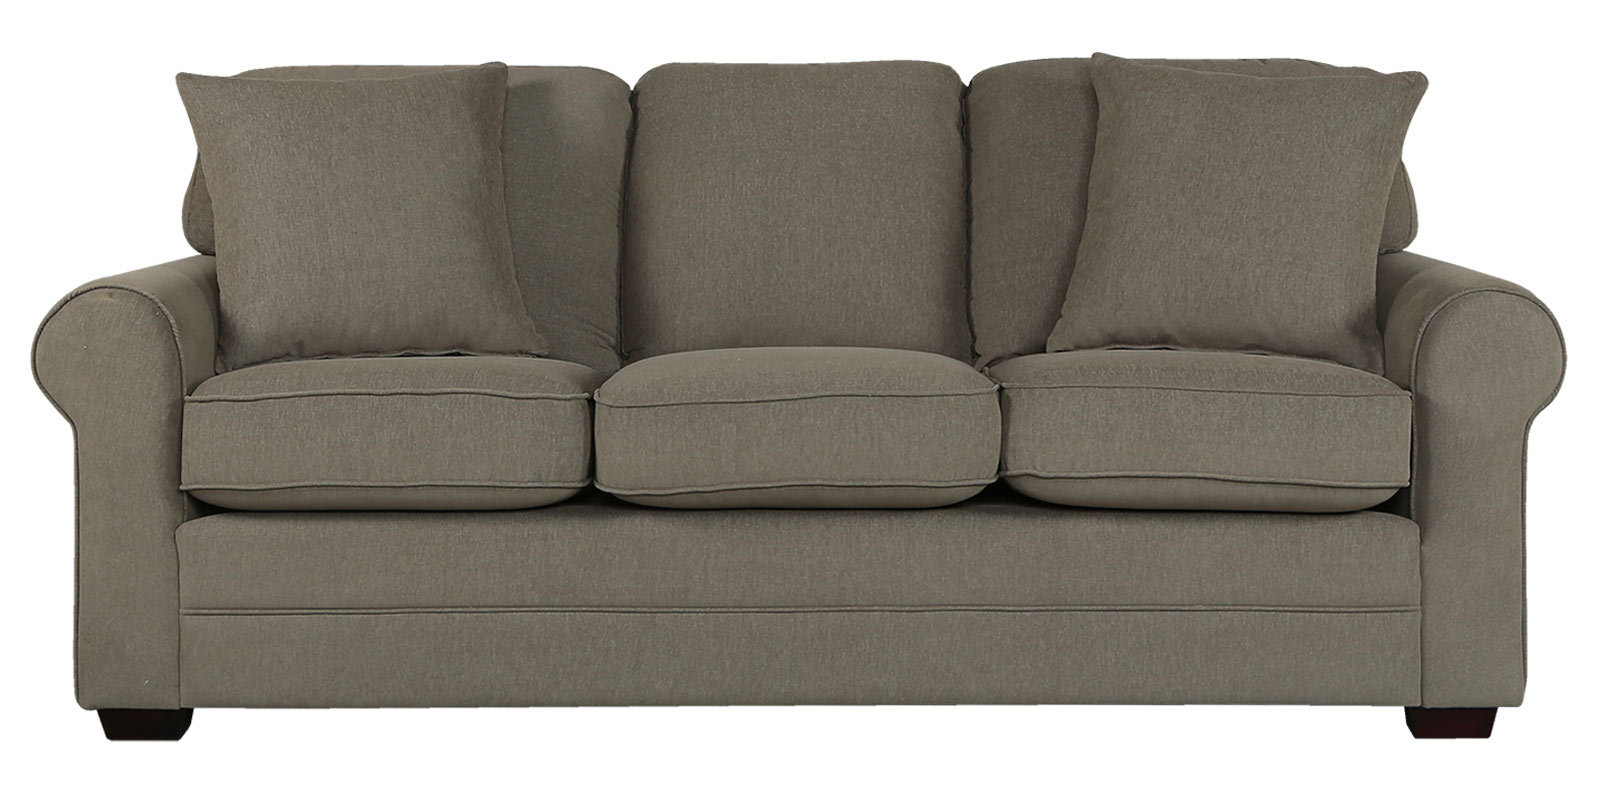Madeira Three Seater Sofa in Sandy Brown Colour by CasaCraft: (30, 50, 1566, 741)
